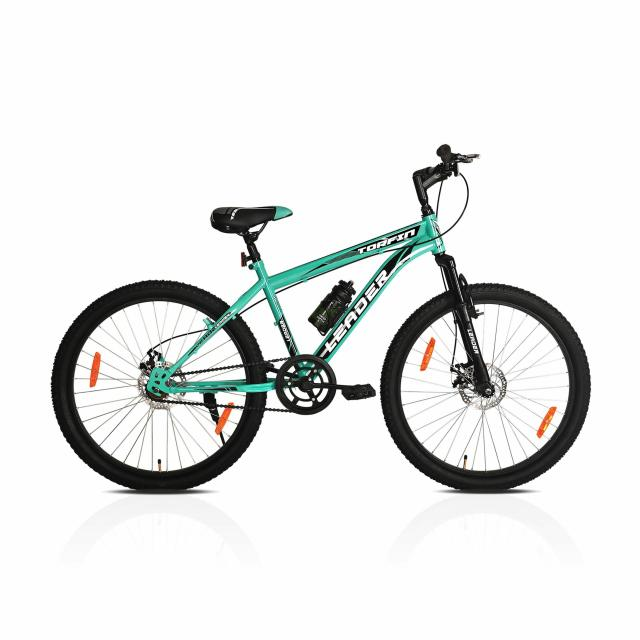bicycle: (51, 145, 590, 490)
